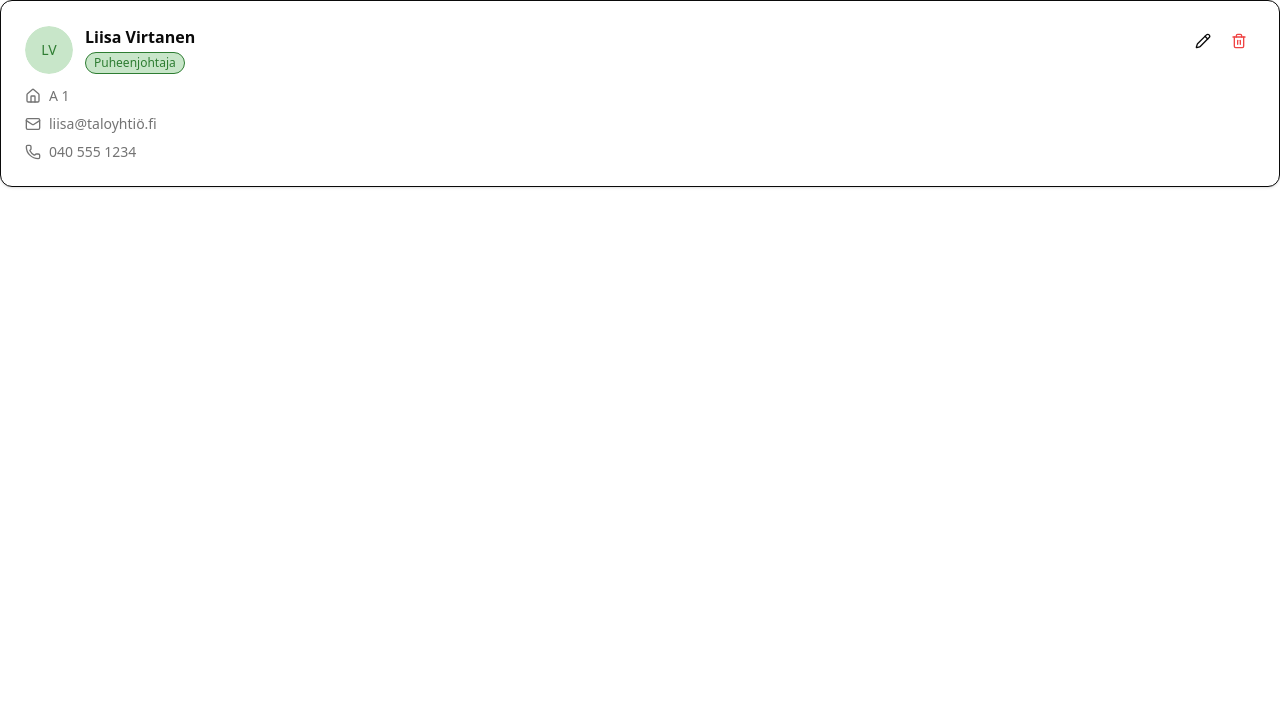
Test: BoardMemberCard › opens delete confirmation dialog when delete button clicked
This screenshot has width=1280, height=720.
What coordinates should you click on to do the following:
click the button named "Poista jäsen"
I would click on:
 (1239, 41)
Its box is [1223,25,1255,57].
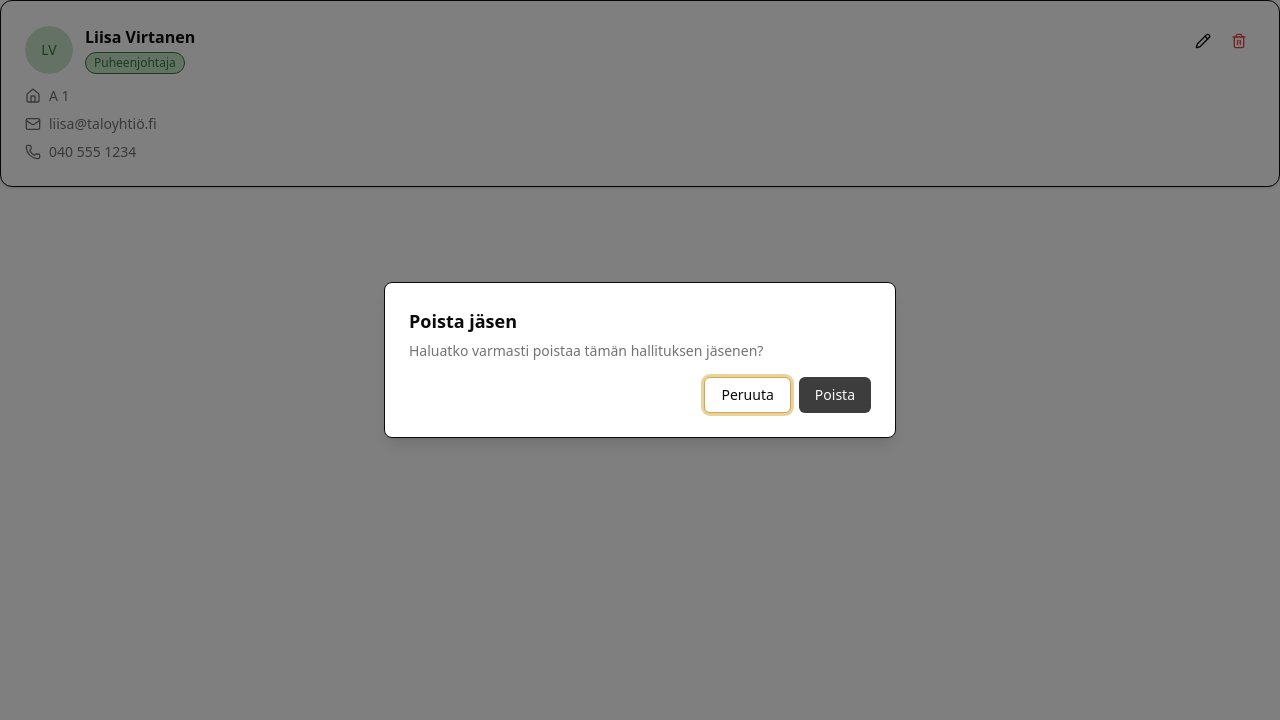
Now the text "Haluatko varmasti poistaa tämän hallituksen jäsenen?" is shown, box [409,341,763,361]
